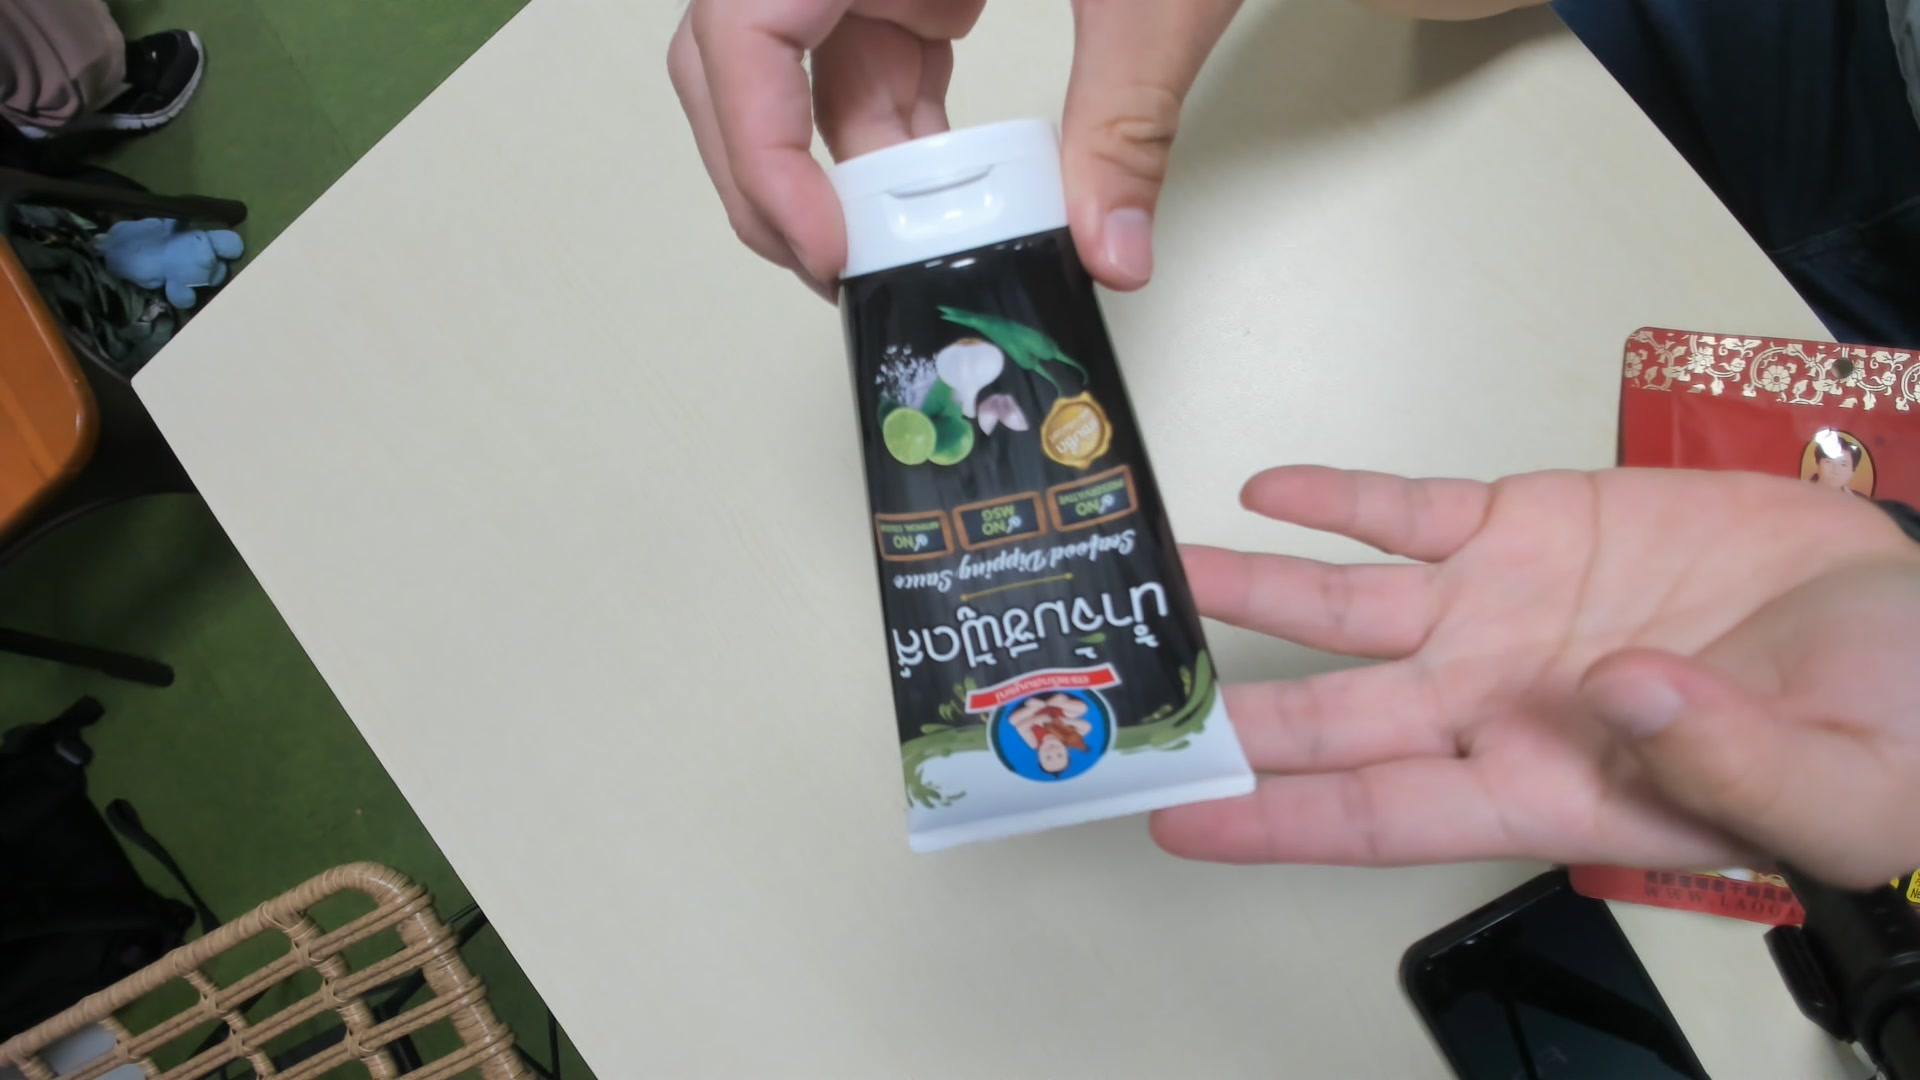OtherSauceDressing_100-199g_NonHalal_NonHealthy: (856, 127, 1265, 841)
